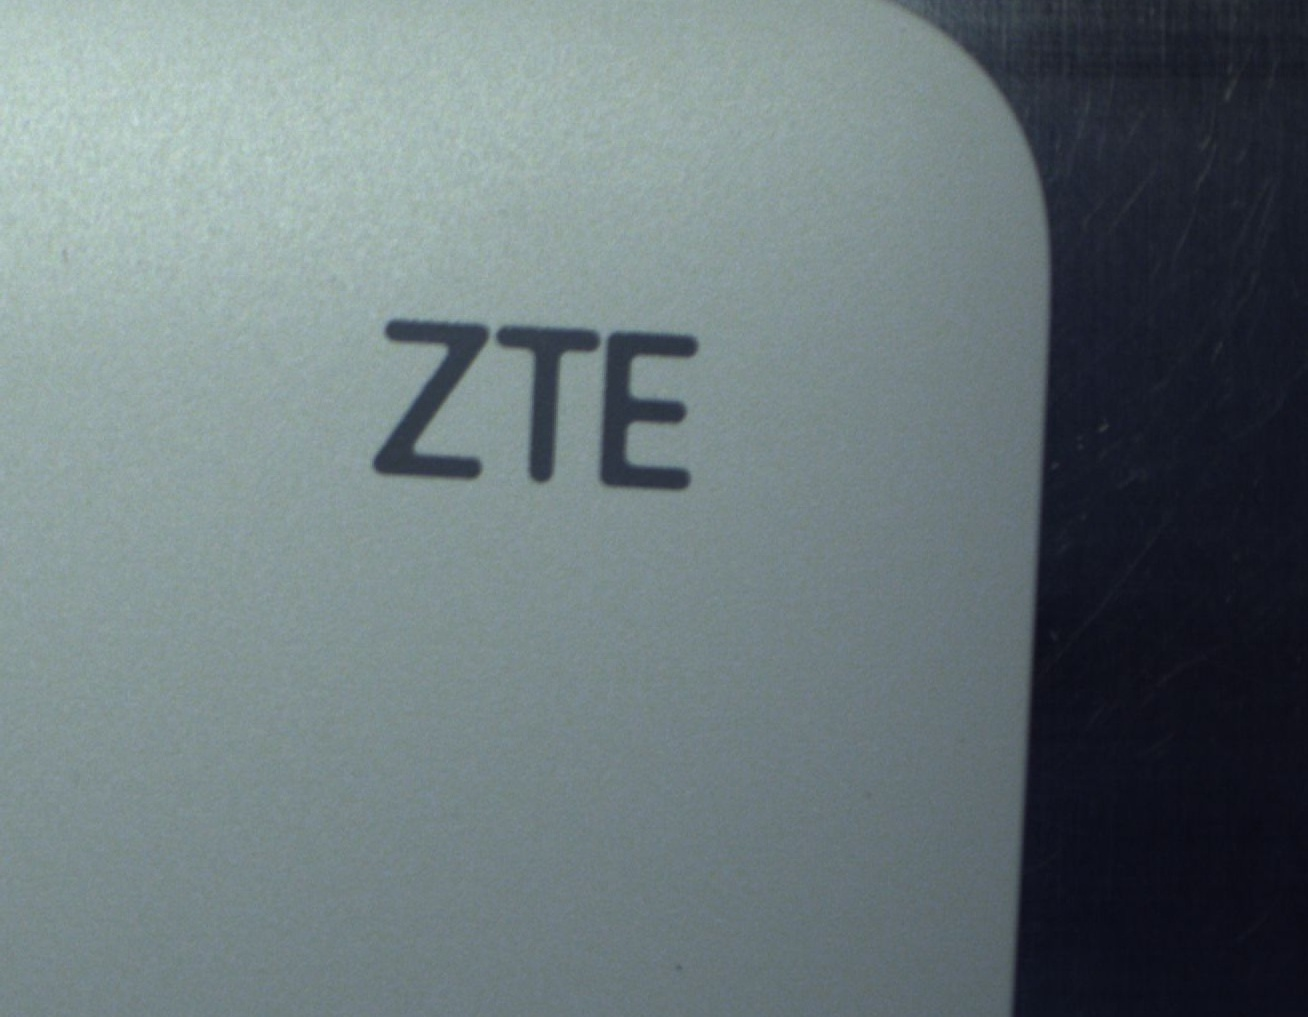AN_ZTE: (325, 283, 772, 530)
